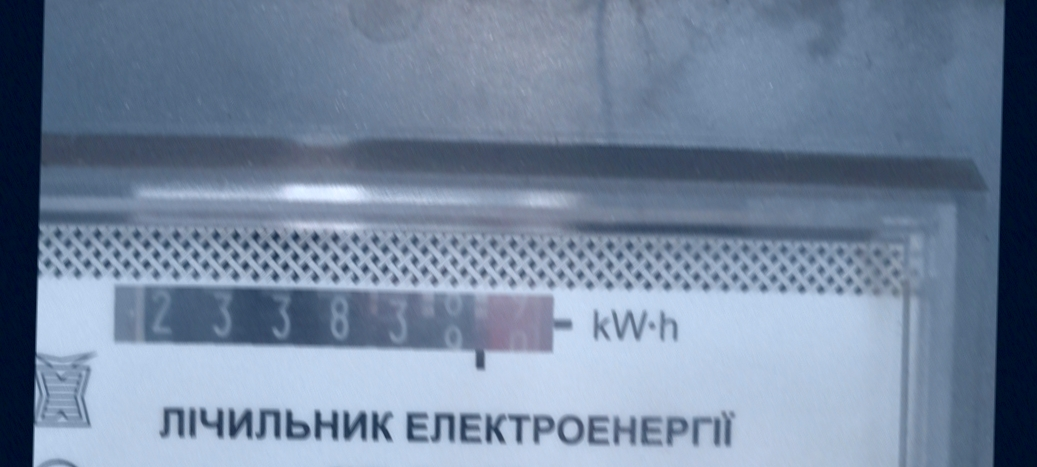0: (507, 327, 529, 354)
2: (149, 288, 174, 335)
3: (206, 288, 236, 338), (264, 291, 294, 341), (384, 297, 409, 343)
8: (324, 294, 352, 341), (441, 290, 464, 318)
9: (441, 322, 463, 352), (507, 291, 529, 321)
screen: (100, 273, 575, 375)
